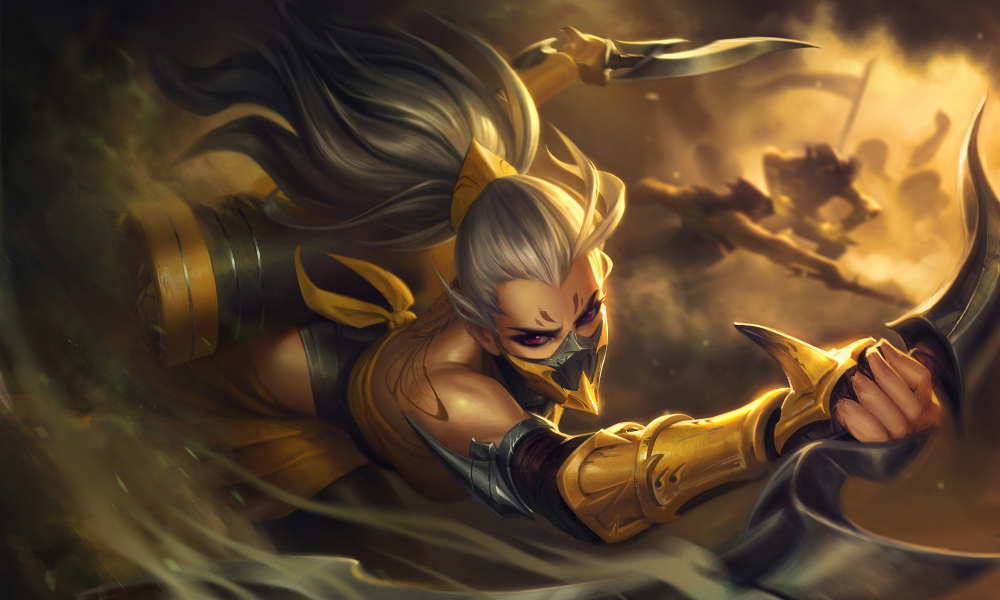face: (408, 139, 642, 422)
